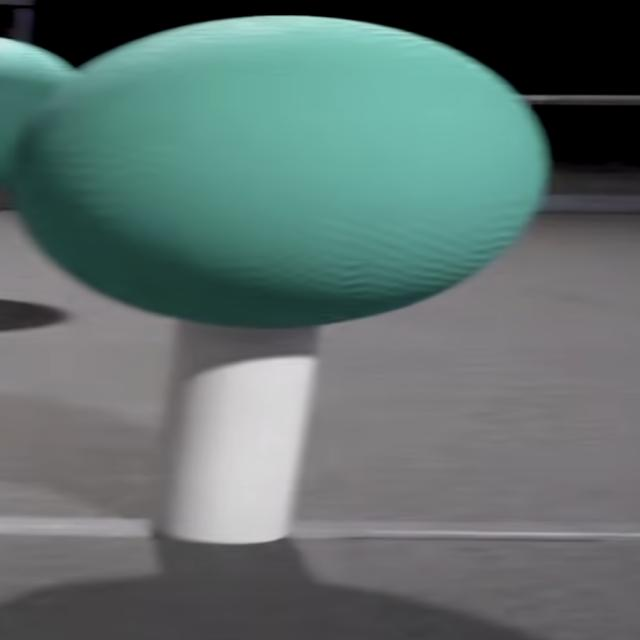Algae: (11, 16, 548, 327), (0, 38, 74, 185)
Coral: (161, 325, 319, 544)
